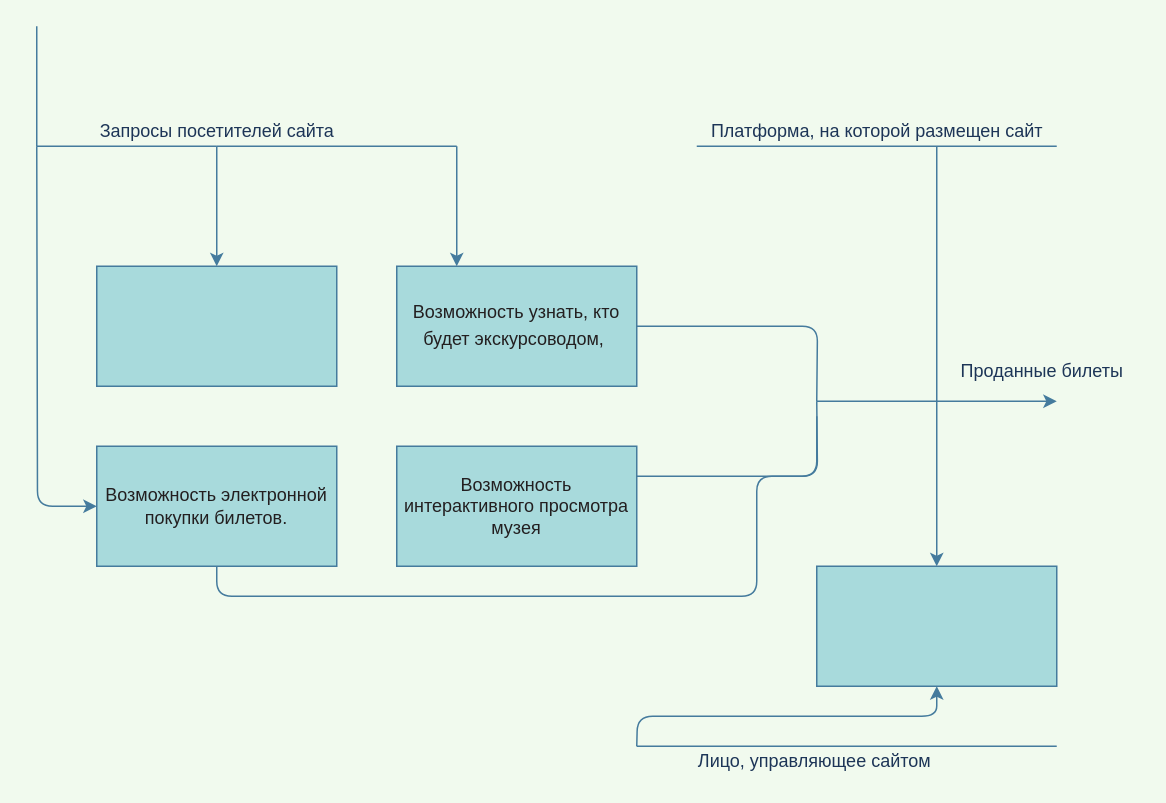
The diagram is 1166 pixels wide and 803 high, and some of its shapes have lost their labels. The centre of each missing label's shape, as x and y in pixels:
Обеспечение доступа к системе через корпоративную интрасеть: (x=936, y=625)
Поиск и получение информации об экспонатах/картинах.: (x=216, y=325)
